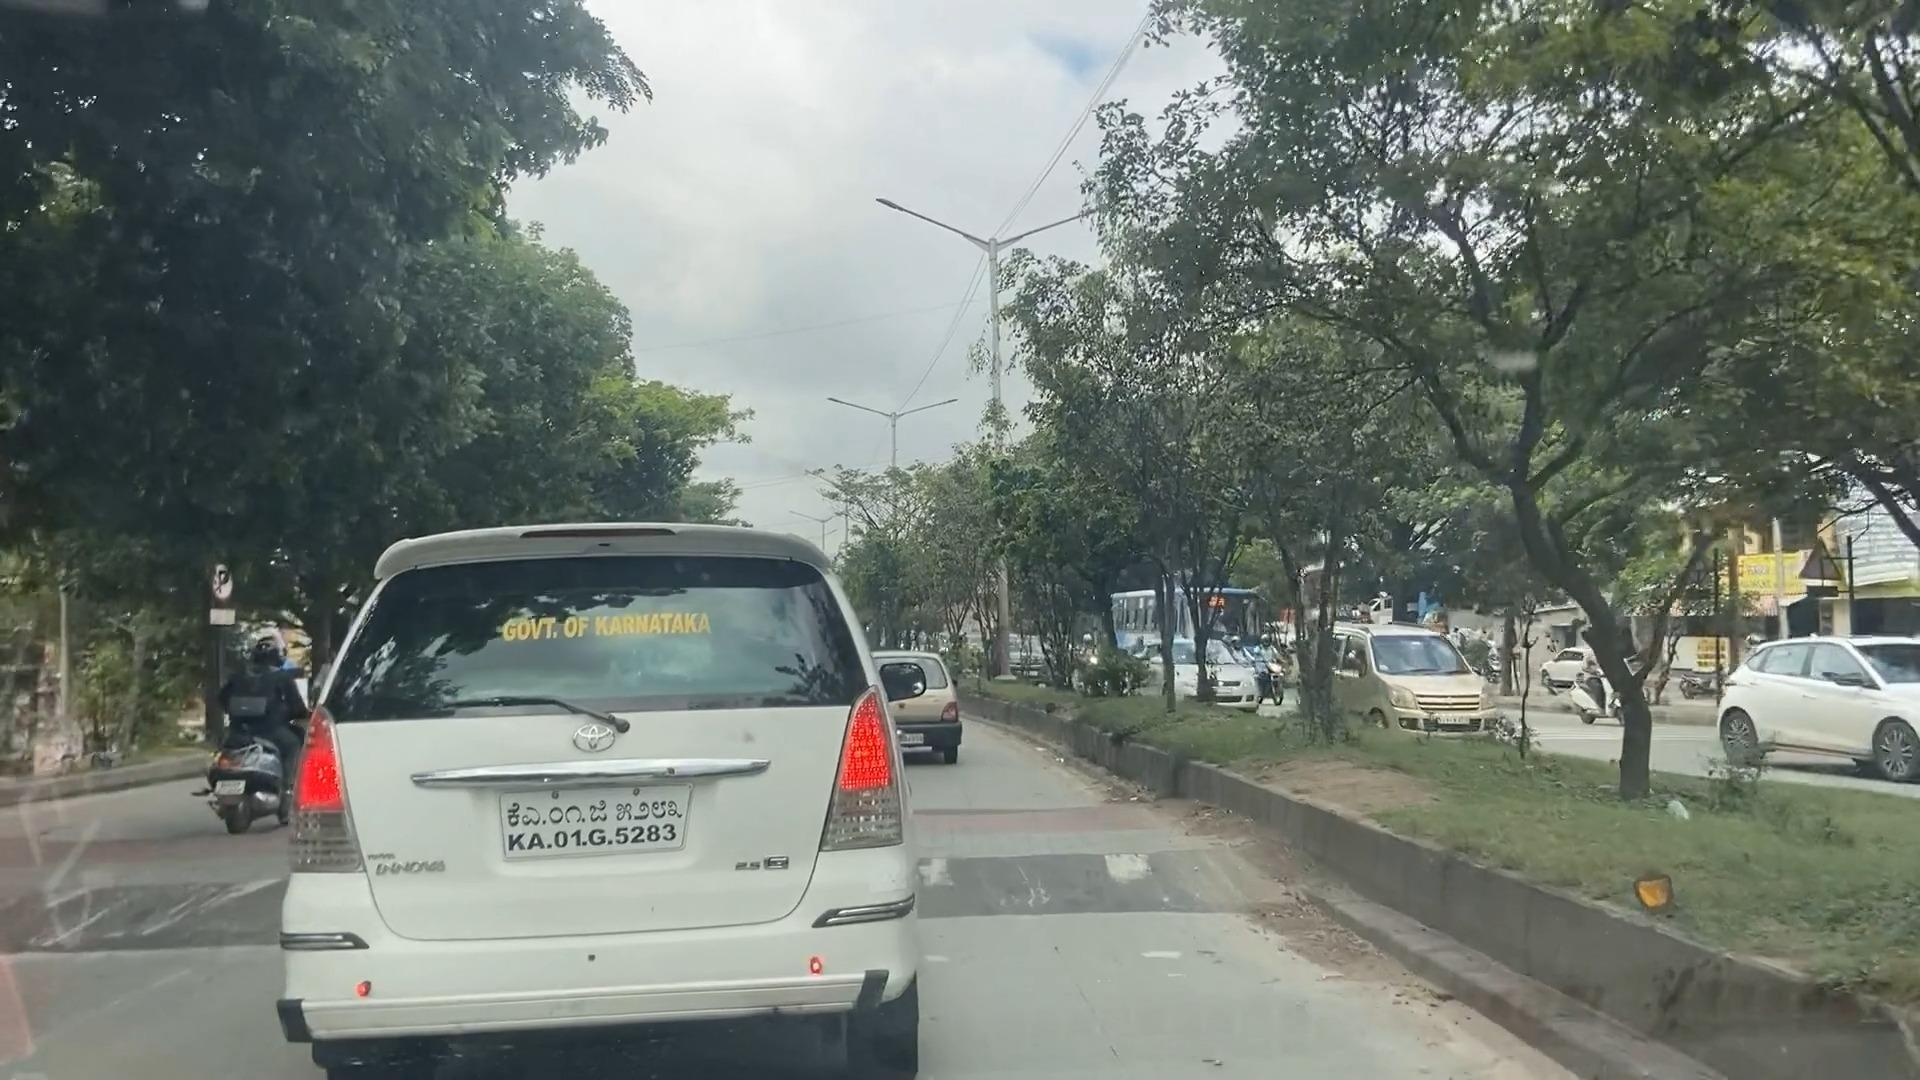LMV: (262, 506, 964, 1080)
